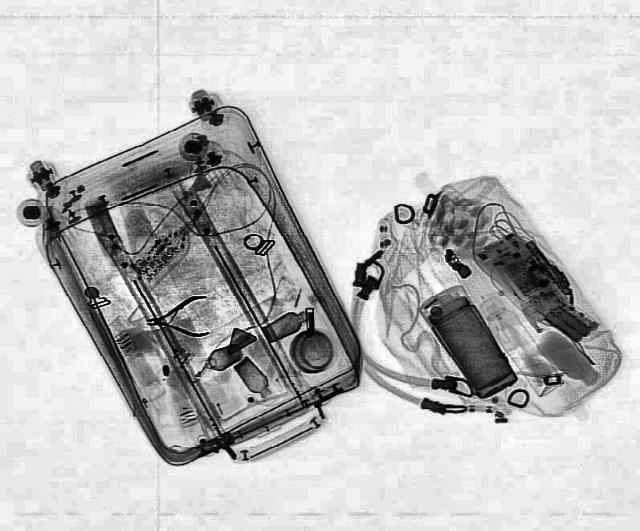Pliers: (144, 294, 210, 336)
